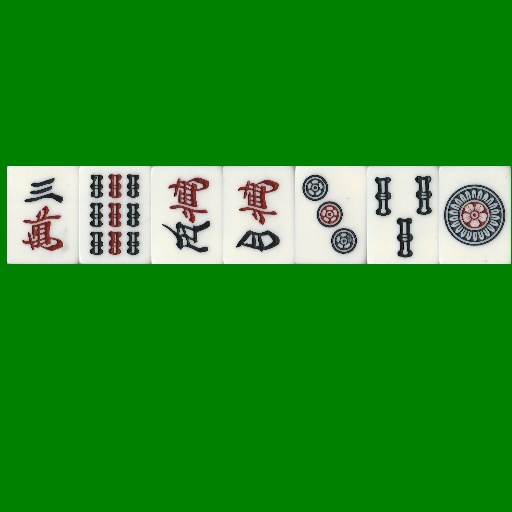1p: (439, 166, 511, 264)
3m: (7, 166, 79, 264)
3p: (295, 166, 367, 264)
3s: (367, 166, 439, 264)
4m: (223, 166, 295, 264)
5m: (151, 166, 223, 264)
9s: (79, 166, 151, 264)
